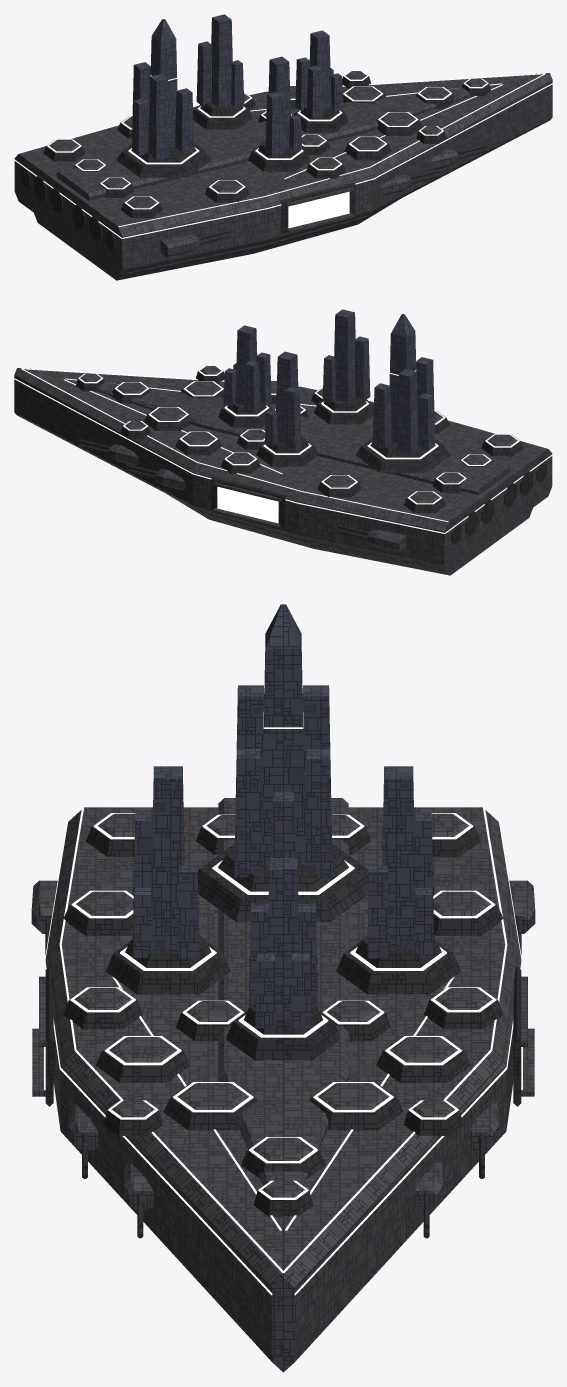
Rendered from tech_lod1.glb.
3 views of the same model, one above another, from view 1: azimuth 30°, elevation 25°; view 2: azimuth 150°, elevation 25°; view 3: azimuth 270°, elevation 25° (orthographic). The views are drawn at different scales.
Visible parts, largest first — view 1: tech_lod1_body, tech_lod1_glow; view 2: tech_lod1_body, tech_lod1_glow; view 3: tech_lod1_body, tech_lod1_glow.
Part boxes in pixels (x1=…): tech_lod1_body: x1=14, y1=14, x2=552, y2=280; tech_lod1_glow: x1=14, y1=71, x2=552, y2=238; tech_lod1_body: x1=14, y1=309, x2=552, y2=575; tech_lod1_glow: x1=14, y1=366, x2=552, y2=533; tech_lod1_body: x1=31, y1=604, x2=535, y2=1372; tech_lod1_glow: x1=44, y1=712, x2=522, y2=1295.
Bounding box in the file's own units: 22.25 × 9.75 × 10.05.
Materials: 2 (1 with a texture image).
